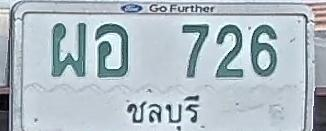2: (215, 24, 243, 78)
6: (250, 24, 277, 77)
7: (182, 23, 208, 78)
A28: (50, 22, 87, 78)
A43: (95, 23, 128, 77)
CBI: (122, 90, 204, 131)
